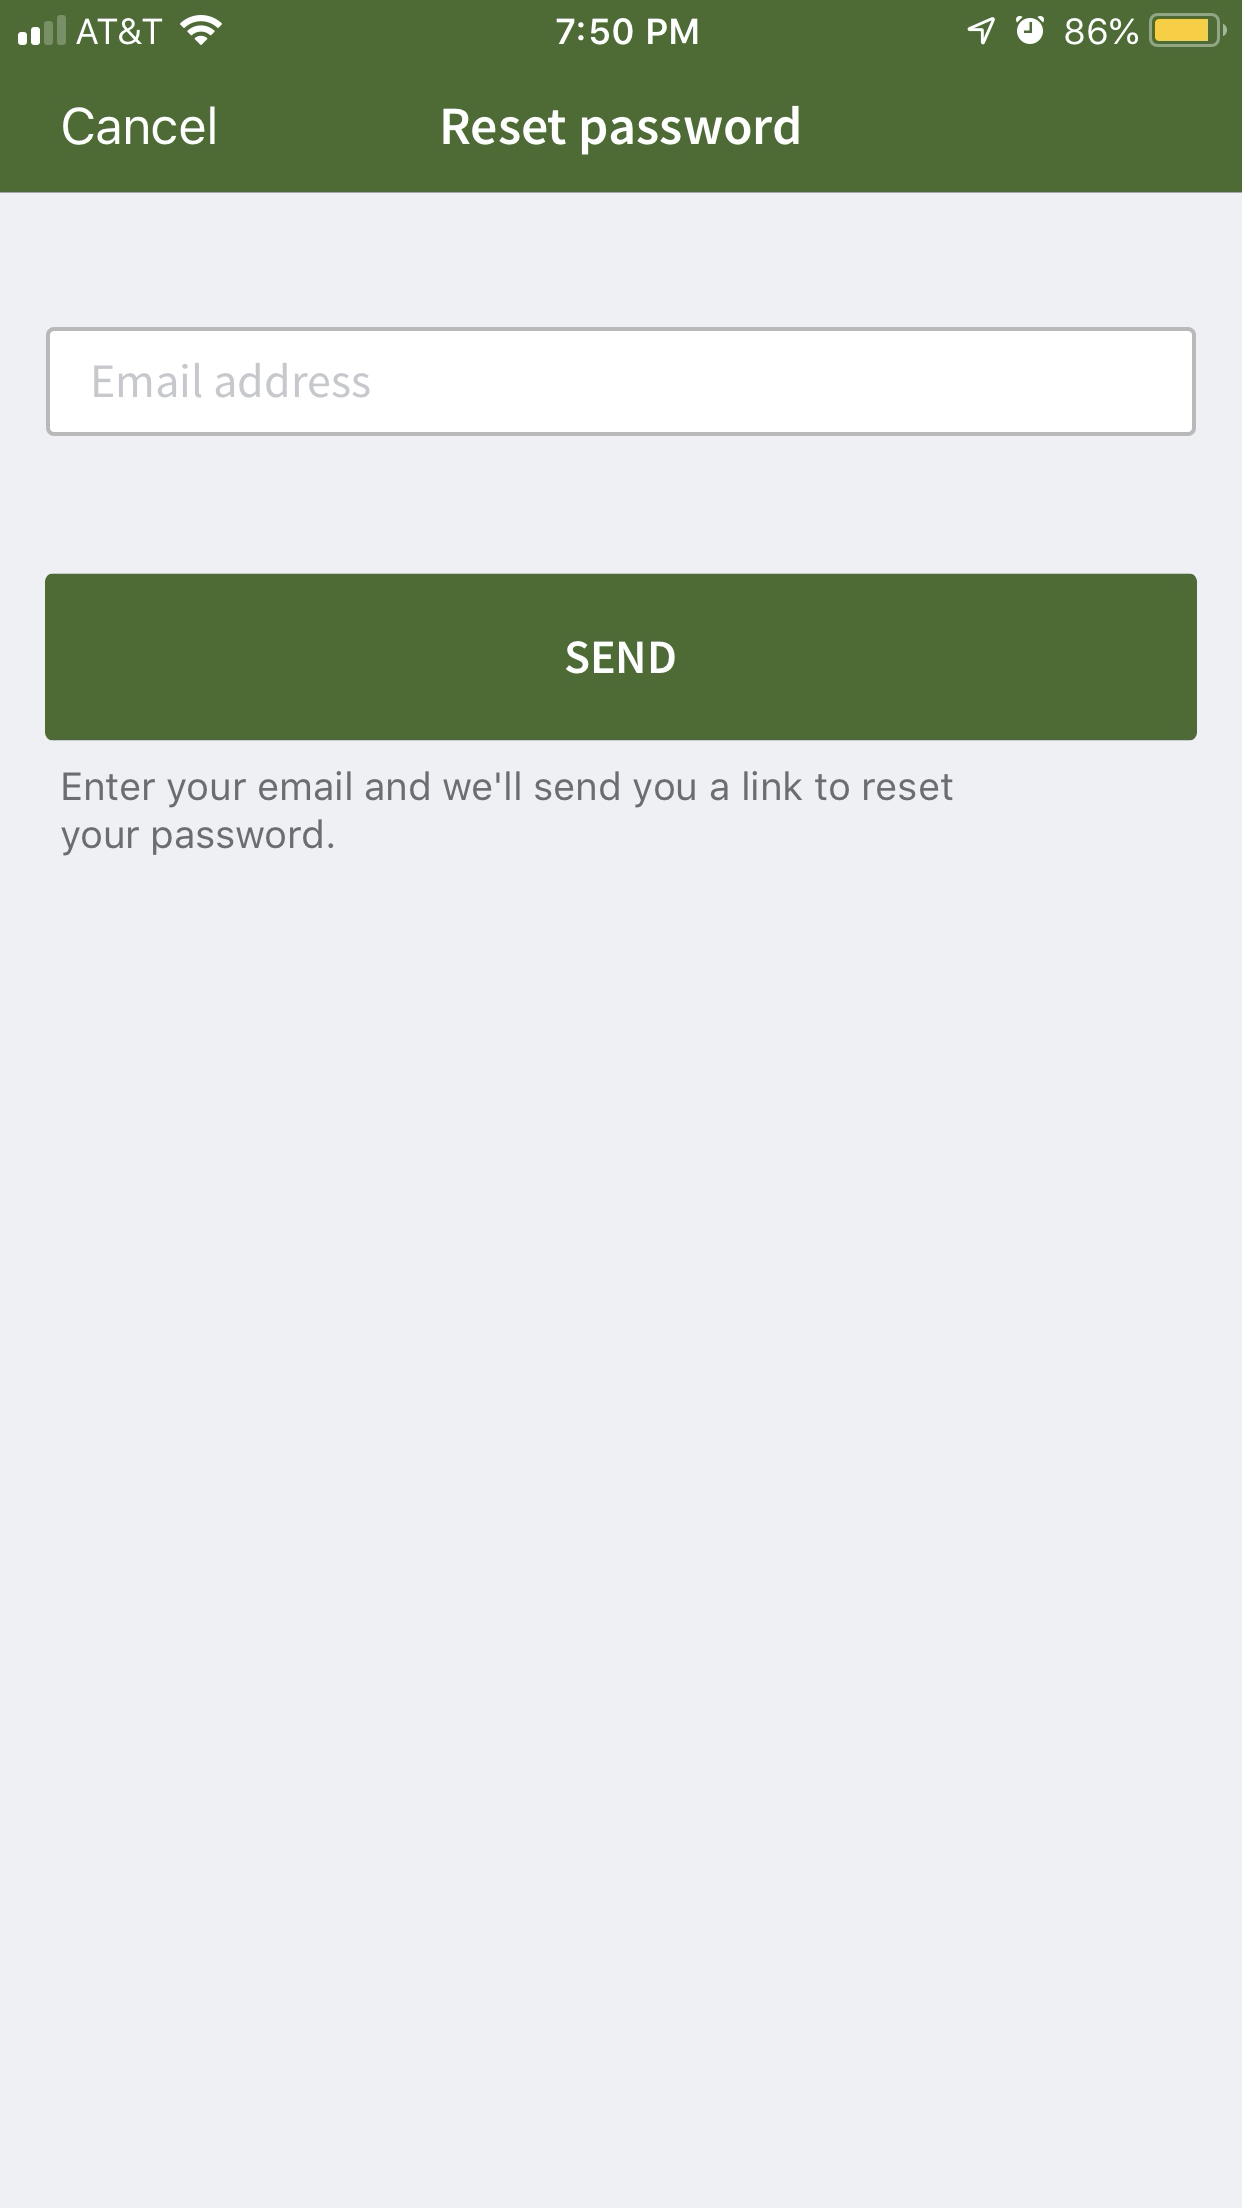EditText: (45, 328, 1197, 437)
Text: (62, 770, 954, 857), (441, 106, 801, 158), (96, 362, 372, 399), (64, 106, 217, 149)
TextButton: (45, 575, 1198, 742)
UpperTaskBar: (2, 2, 1242, 49)
